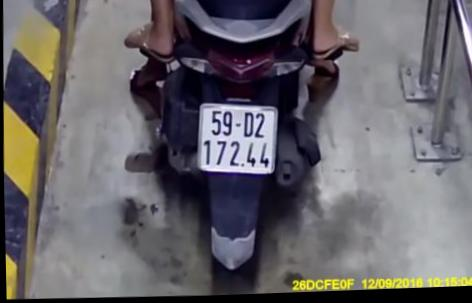LP: (193, 100, 279, 181)
